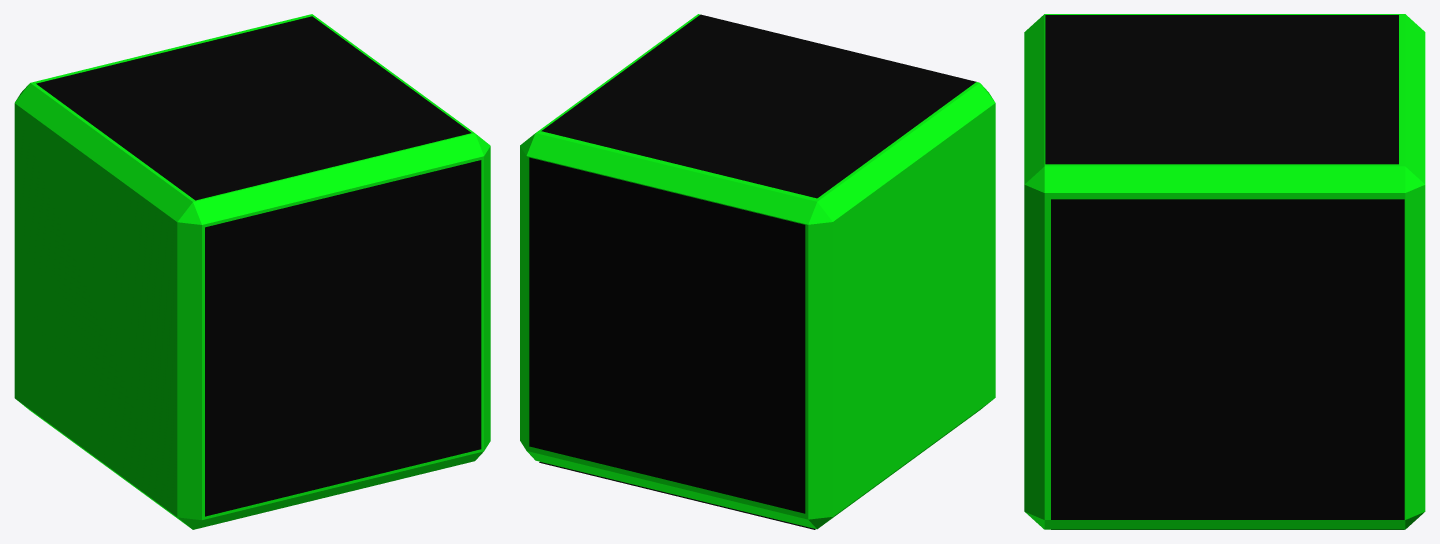
The model's file is hallow-cube.glb.
3 views of the same model, side by side, from view 1: azimuth 30°, elevation 25°; view 2: azimuth 150°, elevation 25°; view 3: azimuth 270°, elevation 25° (orthographic). The views are drawn at different scales.
Parts seen in each view (by area): view 1: Plane, Cube, Plane.001; view 2: Plane.002, Cube, Plane.001; view 3: Plane.004, Plane.001, Cube.
Part boxes in pixels (box(x1,y1,x2,y2)): Plane: box(205, 160, 481, 516); Cube: box(14, 14, 490, 529); Plane.001: box(36, 16, 470, 200); Plane.002: box(529, 157, 805, 513); Cube: box(520, 14, 995, 529); Plane.001: box(541, 14, 976, 198); Plane.004: box(1051, 199, 1404, 519); Plane.001: box(1045, 15, 1398, 164); Cube: box(1024, 14, 1425, 529).
Bounding box in the file's own units: 2.01 × 2.01 × 2.
